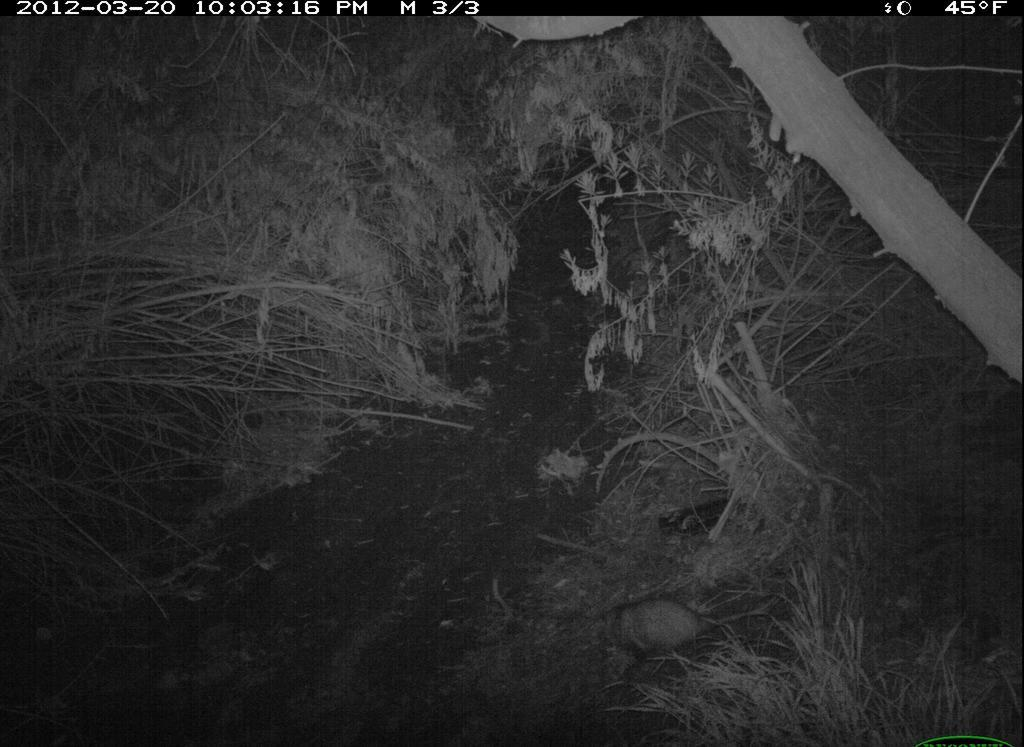opossum: (580, 592, 772, 667)
